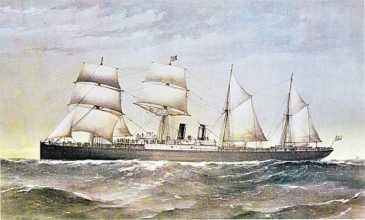fanchuan: (38, 46, 344, 163)
